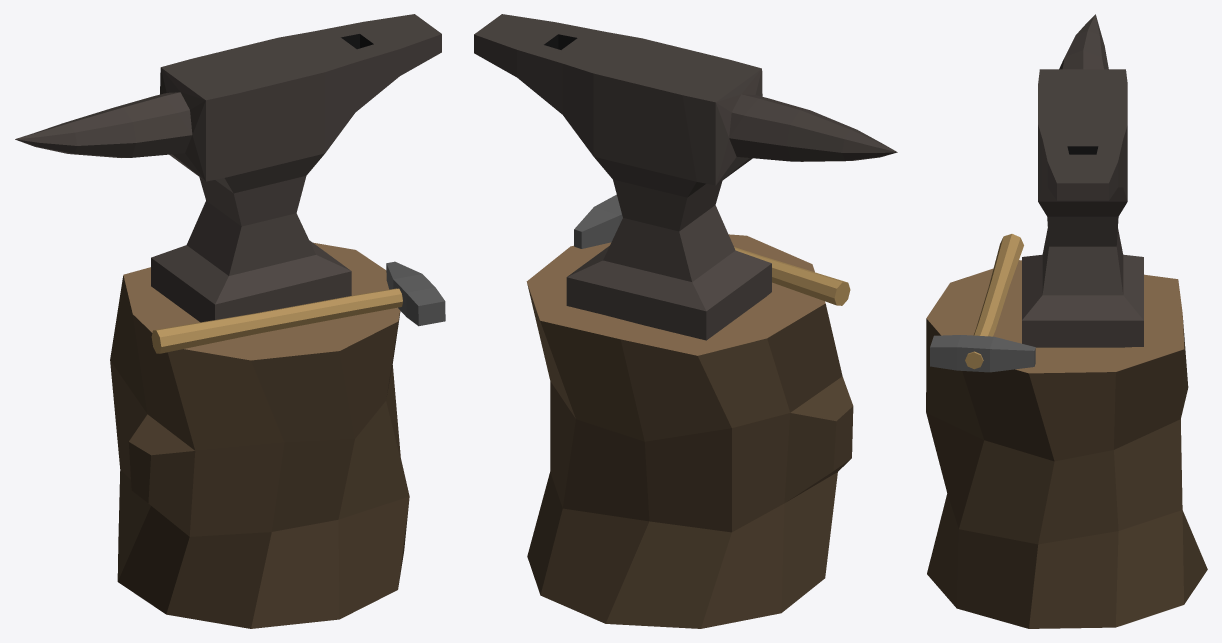
Rendered from Anvil.glb.
3 renders of one model, left to right at view 1: azimuth 30°, elevation 25°; view 2: azimuth 150°, elevation 25°; view 3: azimuth 270°, elevation 25°, orthographic. The views are drawn at different scales.
Visible parts, largest first — view 1: Anvil; view 2: Anvil; view 3: Anvil.
Part boxes in pixels (x1,y1,x2,y2): Anvil: (15,14,445,628); Anvil: (474,14,897,628); Anvil: (926,14,1207,628).
Size of the model in its own units: 0.8514 by 0.9865 by 0.5358.
Materials: 1 (1 with a texture image).
